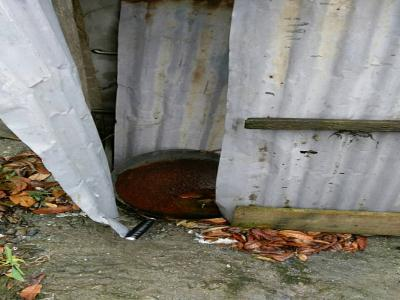plate: (110, 145, 236, 225)
